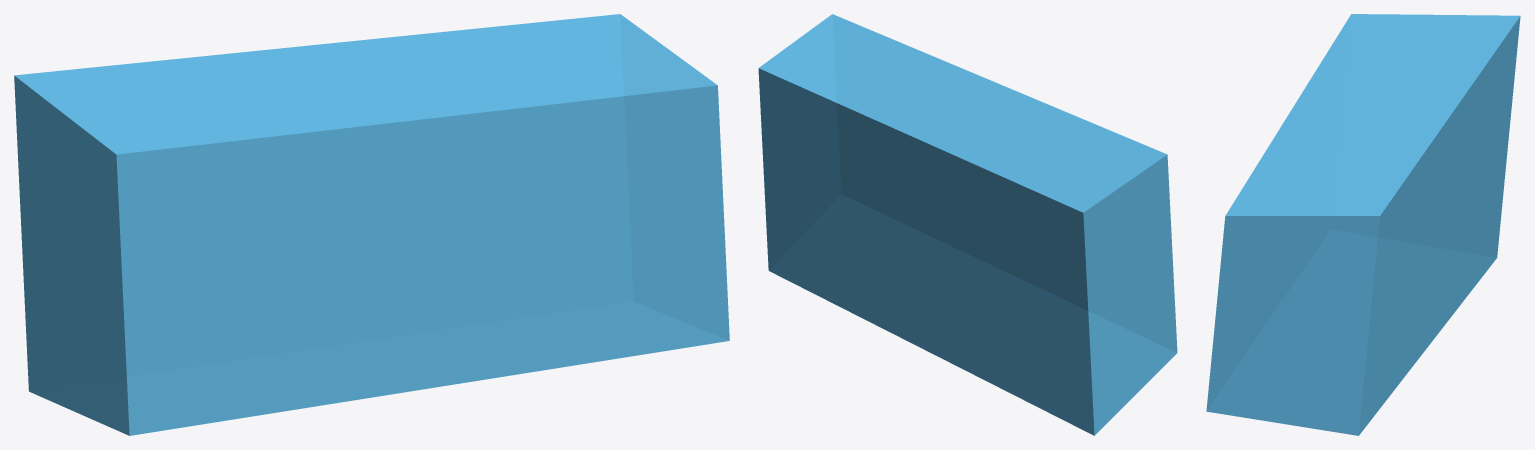
The model's file is Event_421115418_HErechit_14.fbx.
3 views of the same model, side by side, from view 1: azimuth 30°, elevation 25°; view 2: azimuth 150°, elevation 25°; view 3: azimuth 270°, elevation 25° (orthographic). The views are drawn at different scales.
Parts seen in each view (by area): view 1: Model; view 2: Model; view 3: Model.
Boxes of the visible parts, x1=… form: Model: x1=14, y1=14, x2=729, y2=435; Model: x1=758, y1=14, x2=1177, y2=435; Model: x1=1206, y1=14, x2=1520, y2=435.
Size of the model in its own units: 1.03 by 0.5764 by 0.6779.
